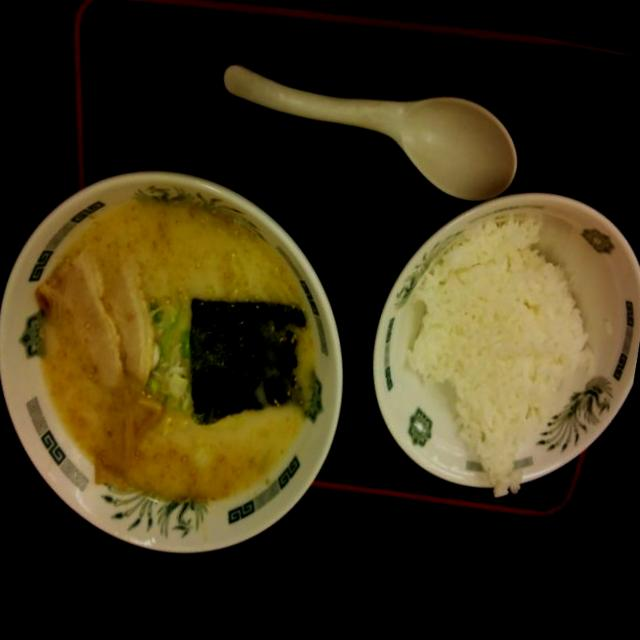Rice: (366, 197, 620, 523)
